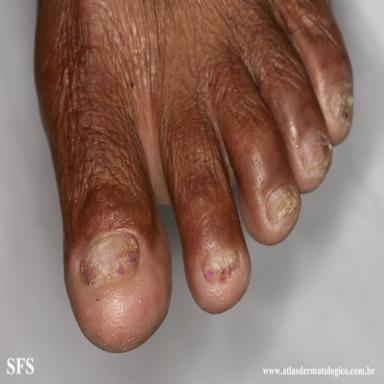Epidermolysis-Bullosa-Pruriginosa: (80, 232, 138, 286), (203, 248, 239, 281)
